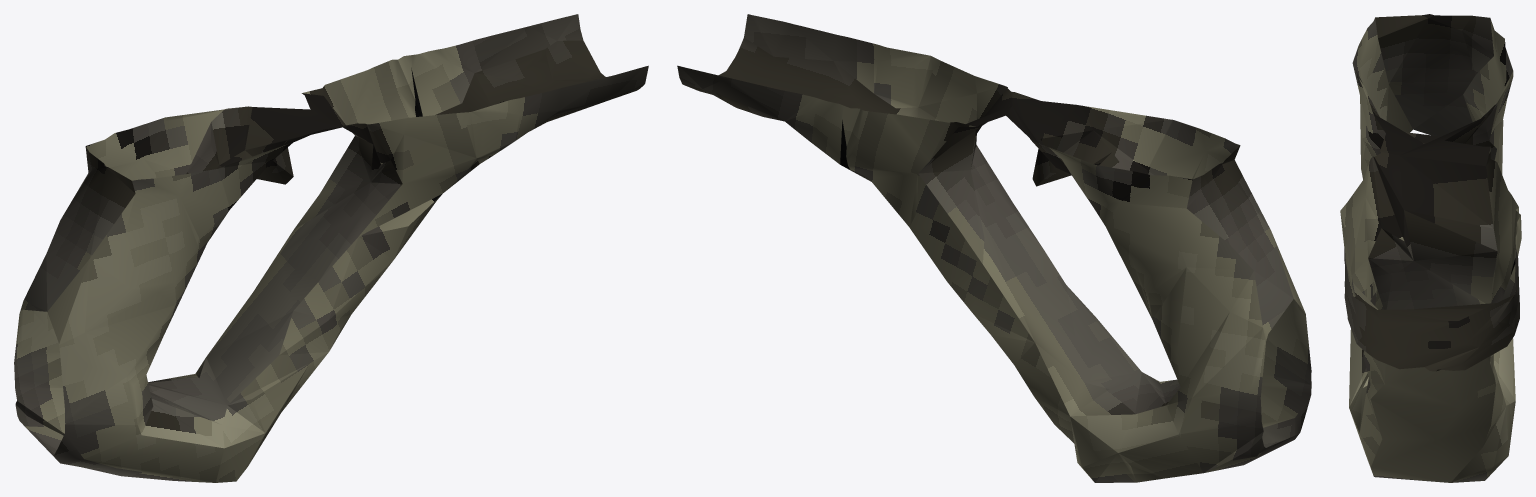
File: empunadura.glb
3 views of the same model, side by side, from view 1: azimuth 30°, elevation 25°; view 2: azimuth 150°, elevation 25°; view 3: azimuth 270°, elevation 25° (orthographic). The views are drawn at different scales.
Parts seen in each view (by area): view 1: geometry_0; view 2: geometry_0; view 3: geometry_0.
Part boxes in pixels (x1,y1,x2,y2): geometry_0: [14, 14, 648, 482]; geometry_0: [677, 14, 1311, 482]; geometry_0: [1340, 14, 1521, 482].
Bounding box in the file's own units: 0.38 × 0.2101 × 0.0851.
Materials: 1 (1 with a texture image).
